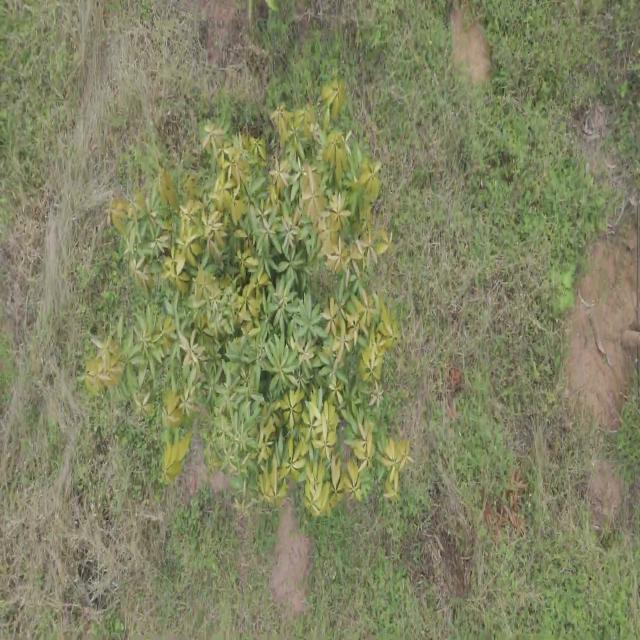mangoTree: (83, 69, 416, 517)
